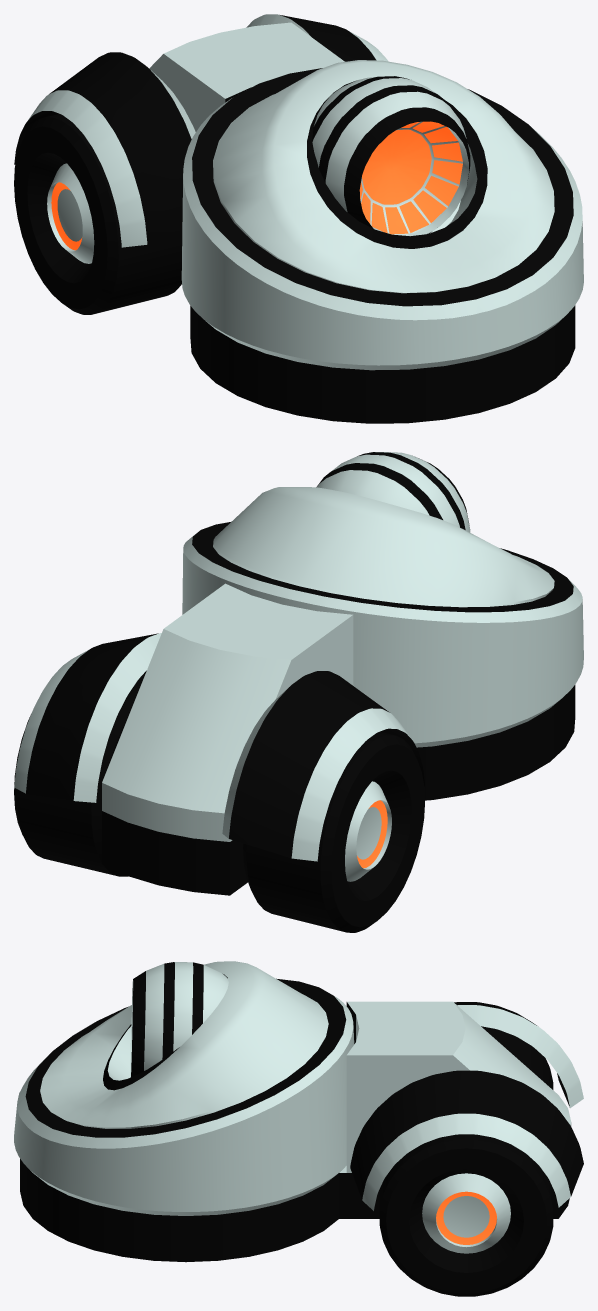
Rendered from hızlı robot.fbx.
3 views of the same model, one above another, from view 1: azimuth 30°, elevation 25°; view 2: azimuth 150°, elevation 25°; view 3: azimuth 270°, elevation 25° (orthographic). The views are drawn at different scales.
Parts seen in each view (by area): view 1: Circle; view 2: Circle; view 3: Circle.
Boxes of the visible parts, left/top/right/bottom form: Circle: left=14, top=14, right=583, bottom=423; Circle: left=14, top=452, right=583, bottom=932; Circle: left=14, top=961, right=583, bottom=1296.
Size of the model in its own units: 199 by 168 by 328.
